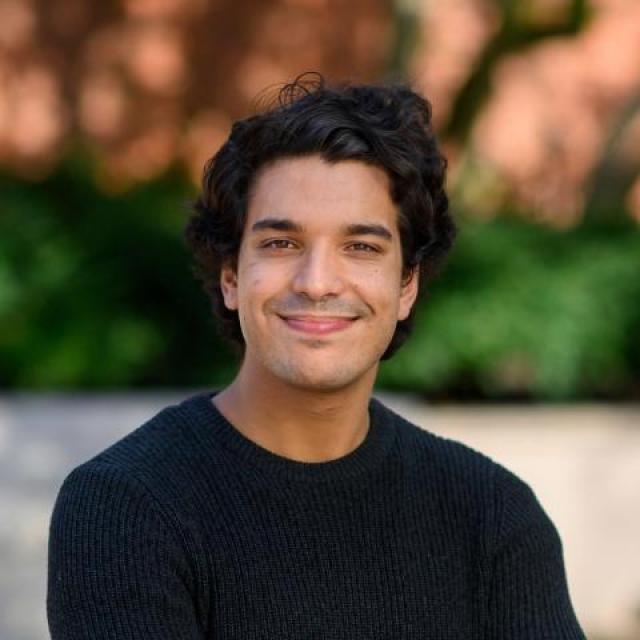adult: (44, 84, 597, 640)
